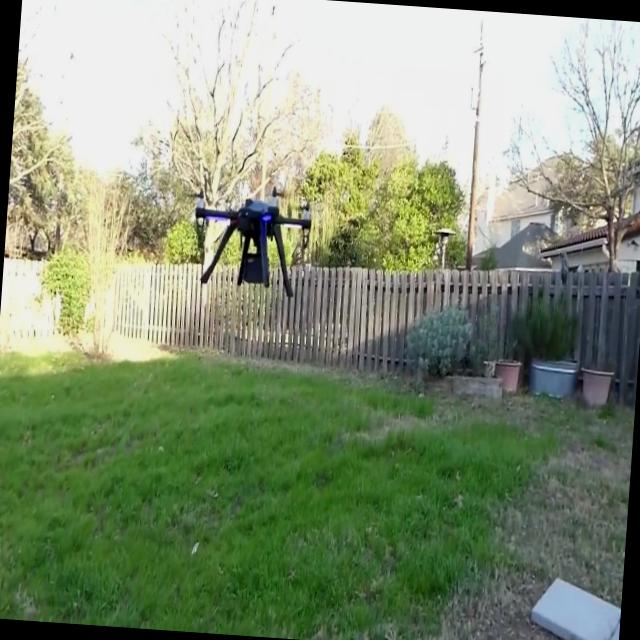drone: (188, 176, 316, 302)
